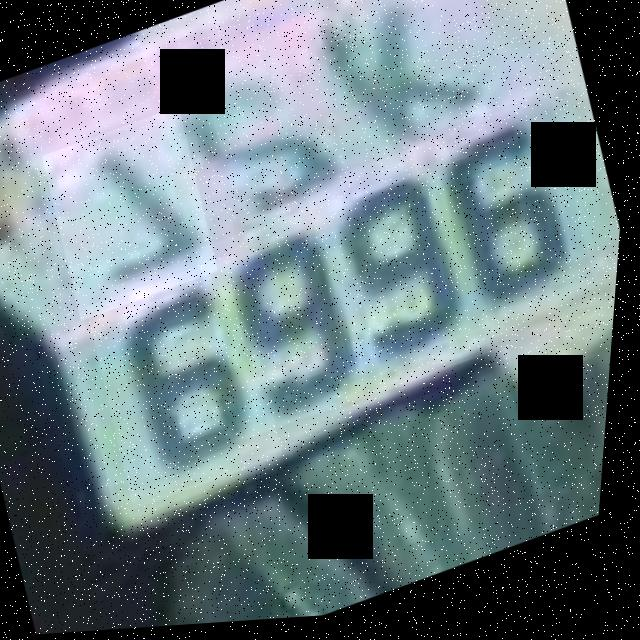6: (78, 252, 302, 514), (403, 94, 609, 336)
9: (188, 198, 403, 448), (295, 138, 507, 386)
J: (35, 105, 232, 324)
